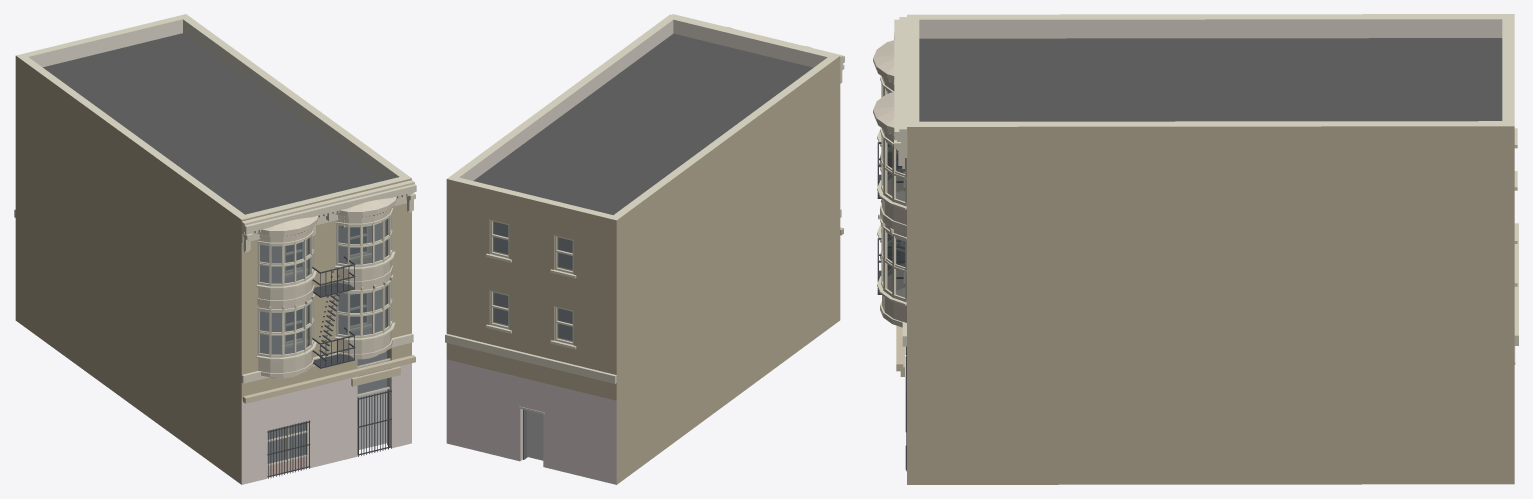
File: exterior.glb
The picture shows the model from 3 angles, left to right: view 1: azimuth 30°, elevation 25°; view 2: azimuth 150°, elevation 25°; view 3: azimuth 270°, elevation 25°; orthographic projection. The views are drawn at different scales.
Visible parts, largest first — view 1: shell, roof, bay-glazing-hyb, shadow-proxy, bay-windows-hyb, trim, storefront, glazing, hand-ornament, fire-escape, frames; view 2: shell, roof, trim, shadow-proxy, glazing, frames; view 3: shell, roof, bay-glazing-hyb, bay-windows-hyb, trim.
Boxes of the visible parts, box(x1,y1,x2,y2) form: shell: box(15, 14, 411, 484); roof: box(43, 33, 384, 214); bay-glazing-hyb: box(256, 208, 395, 360); shadow-proxy: box(260, 220, 386, 462); bay-windows-hyb: box(257, 196, 396, 378); trim: box(14, 180, 416, 383); storefront: box(267, 348, 391, 478); glazing: box(267, 227, 389, 463); hand-ornament: box(243, 355, 415, 403); fire-escape: box(309, 256, 355, 368); frames: box(285, 226, 367, 344); shell: box(446, 14, 840, 484); roof: box(473, 33, 813, 215); trim: box(445, 14, 844, 383); shadow-proxy: box(494, 222, 572, 460); glazing: box(493, 221, 572, 341); frames: box(490, 219, 573, 344); shell: box(907, 14, 1514, 484); roof: box(919, 38, 1502, 121); bay-glazing-hyb: box(877, 76, 906, 305); bay-windows-hyb: box(873, 40, 906, 327); trim: box(894, 17, 1518, 346).
Bounding box in the file's own units: 7.44 × 11 × 17.98.
